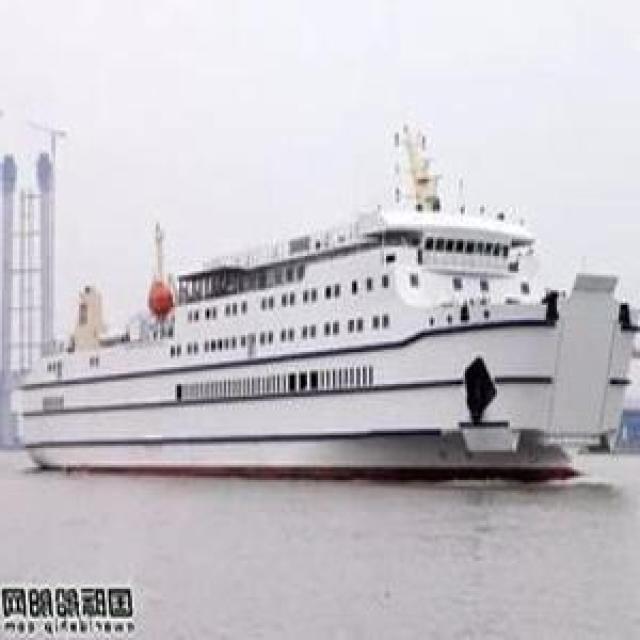passenger ship: (23, 172, 623, 485)
